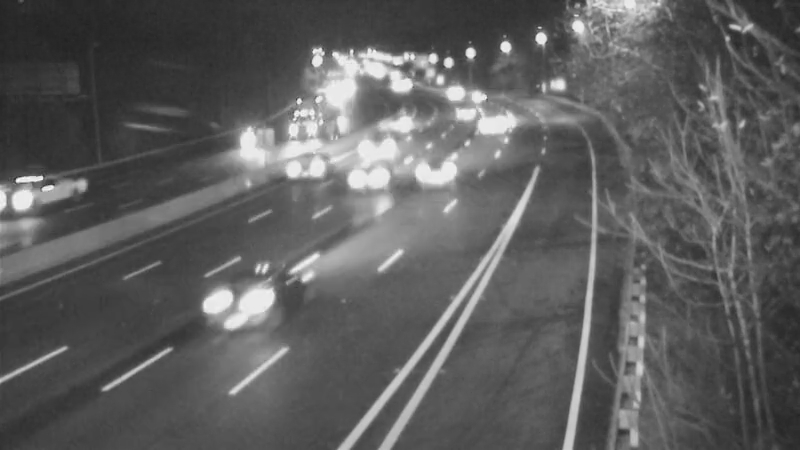vehicle: (186, 248, 296, 358), (407, 123, 487, 203), (330, 138, 410, 218), (273, 128, 353, 208), (1, 155, 79, 235), (419, 67, 469, 117), (454, 72, 504, 122), (436, 91, 486, 141), (381, 93, 431, 143), (465, 99, 515, 149), (349, 123, 399, 173), (224, 111, 274, 161), (281, 98, 331, 148)
